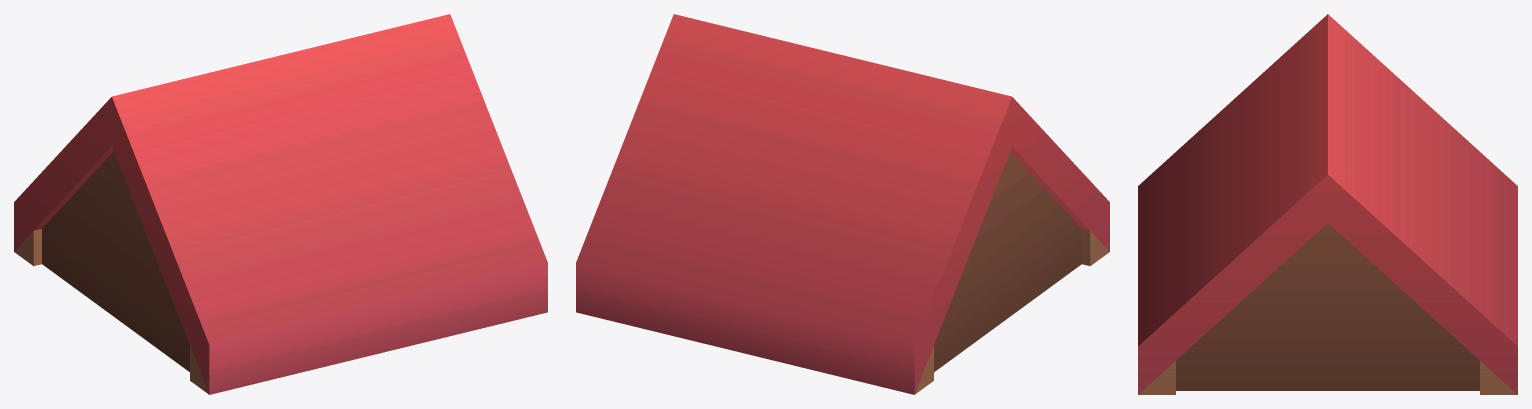
Rendered from roof-high-gable-top.glb.
3 views of the same model, side by side, from view 1: azimuth 30°, elevation 25°; view 2: azimuth 150°, elevation 25°; view 3: azimuth 270°, elevation 25° (orthographic). The views are drawn at different scales.
Parts seen in each view (by area): view 1: roof-high-gable-top; view 2: roof-high-gable-top; view 3: roof-high-gable-top.
Boxes of the visible parts, bbox=[...] form: roof-high-gable-top: bbox=[14, 14, 547, 394]; roof-high-gable-top: bbox=[576, 14, 1109, 394]; roof-high-gable-top: bbox=[1138, 14, 1517, 394].
Bounding box in the file's own units: 1 × 0.6407 × 1.
Materials: 1 (1 with a texture image).
